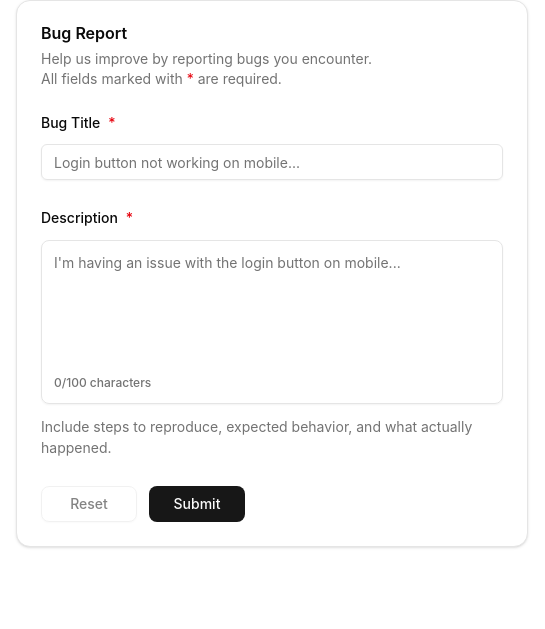
Test: BugReportForm › form validation › shows errors and disables buttons when submitting empty form
Click the button "Submit" at (197, 504), box [149,486,245,522]
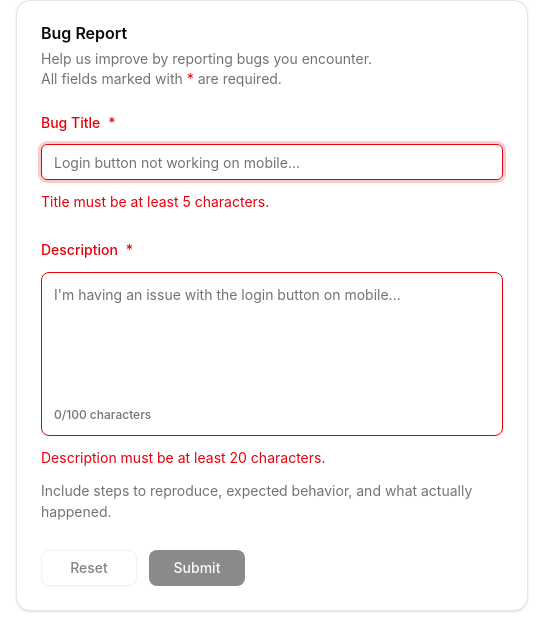
Check: the text "Title must be at least 5 characters." is shown, box [41,193,269,210]
Check: the text "Description must be at least 20 characters." is shown, box [41,448,325,466]
Check: the button "Submit" is disabled, box [149,550,245,586]
